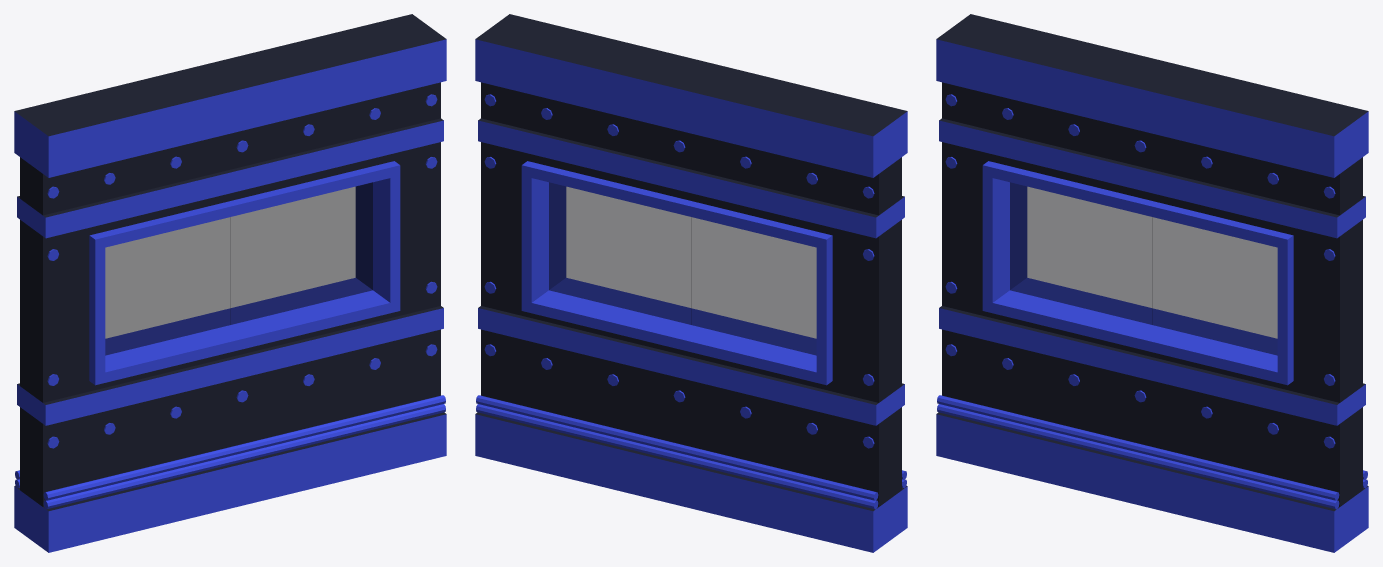
File: Window_A.fbx
The picture shows the model from 3 angles, left to right: view 1: azimuth 30°, elevation 25°; view 2: azimuth 150°, elevation 25°; view 3: azimuth 330°, elevation 25°; orthographic projection.
Parts seen in each view (by area): view 1: Window_A; view 2: Window_A; view 3: Window_A.
Boxes of the visible parts, x1,y1,x2,y2 form: Window_A: (14, 14, 446, 552); Window_A: (475, 14, 907, 552); Window_A: (936, 14, 1368, 552).
Bounding box in the file's own units: 200 × 200 × 30.
